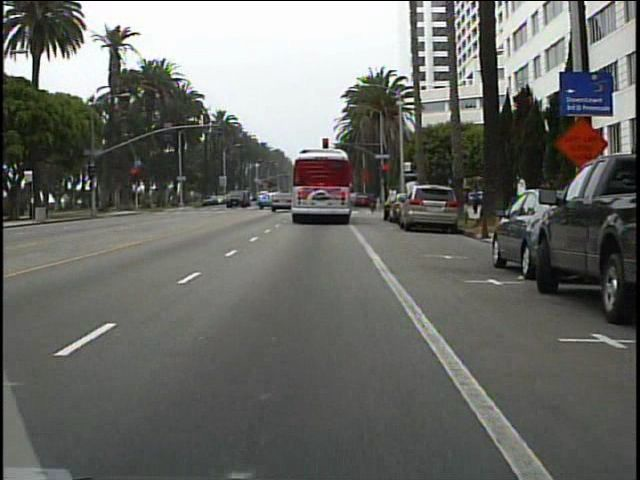person: (470, 185, 481, 216)
